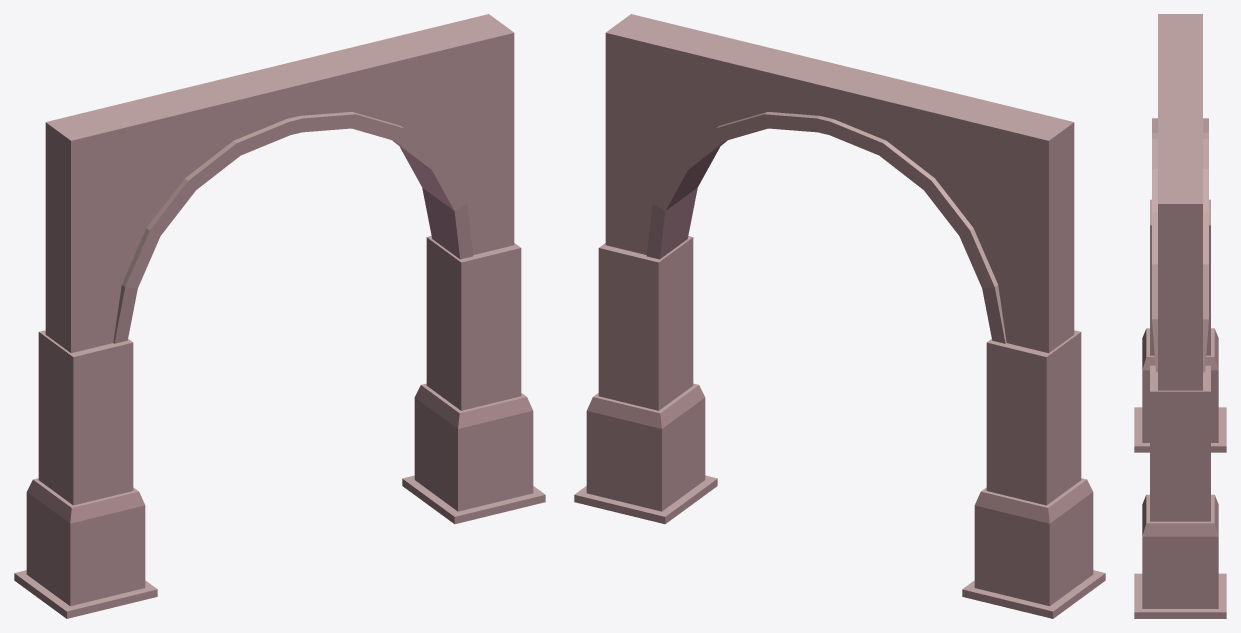
File: arch1.glb
3 renders of one model, left to right at view 1: azimuth 30°, elevation 25°; view 2: azimuth 150°, elevation 25°; view 3: azimuth 270°, elevation 25°, orthographic. The views are drawn at different scales.
Visible parts, largest first — view 1: Arch4; view 2: Arch4; view 3: Arch4.
Part boxes in pixels (box(x1,y1,x2,y2)): Arch4: box(14, 14, 545, 618); Arch4: box(574, 14, 1105, 618); Arch4: box(1134, 14, 1226, 618).
Size of the model in its own units: 4.32 by 4 by 0.8209.
Materials: 1 (1 with a texture image).
